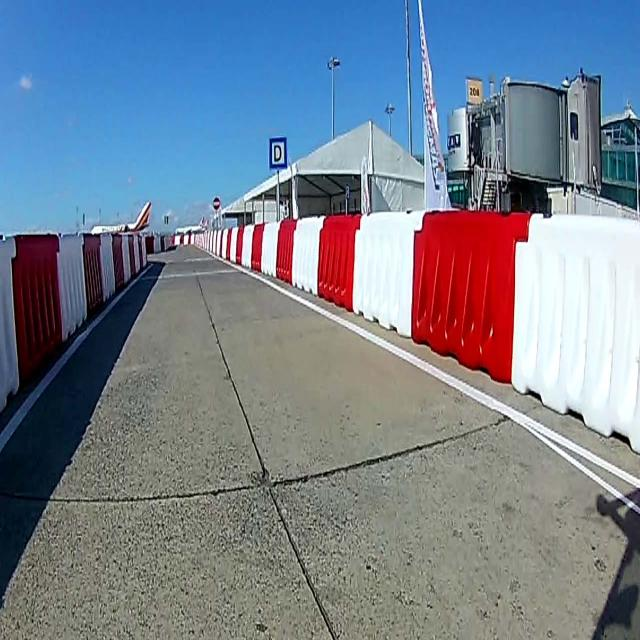durak: (269, 137, 288, 171)
girisyok: (212, 196, 220, 212)
